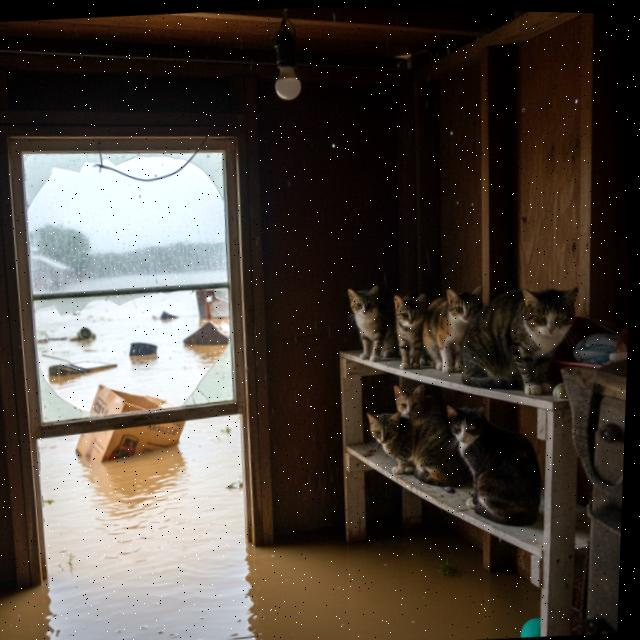cat: (434, 395, 558, 535), (467, 271, 587, 397), (417, 283, 488, 380), (359, 404, 450, 479), (335, 276, 408, 365), (385, 377, 464, 458), (384, 287, 437, 373)
